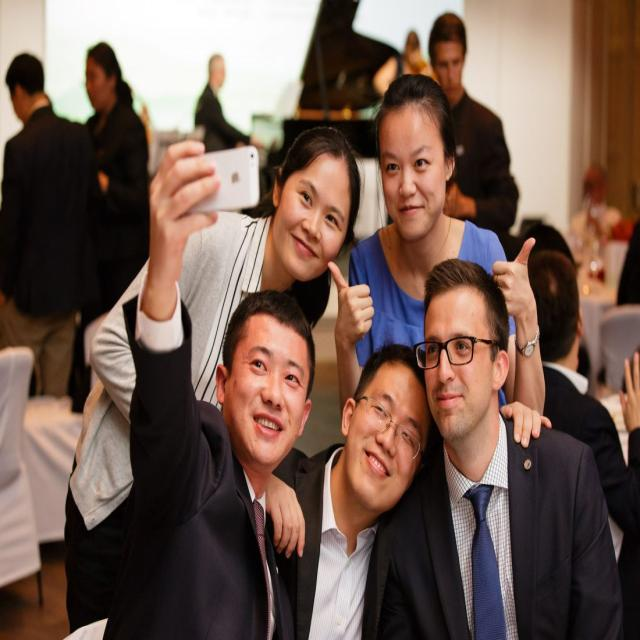body: (58, 111, 360, 639), (94, 129, 321, 639), (366, 254, 632, 639), (326, 73, 547, 417), (257, 338, 435, 640), (0, 52, 93, 400), (428, 12, 520, 234), (500, 219, 599, 398), (84, 41, 150, 304), (195, 52, 251, 153), (569, 159, 624, 243), (373, 20, 426, 91), (614, 212, 640, 320)
